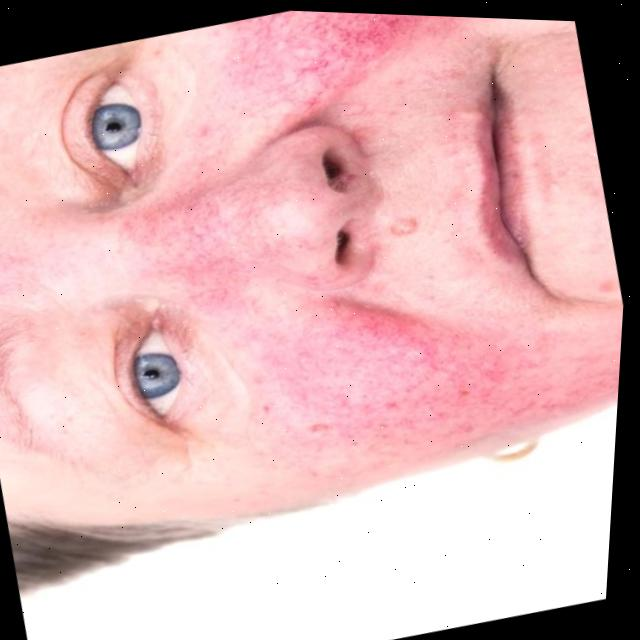Rosacea: (122, 6, 576, 494)
